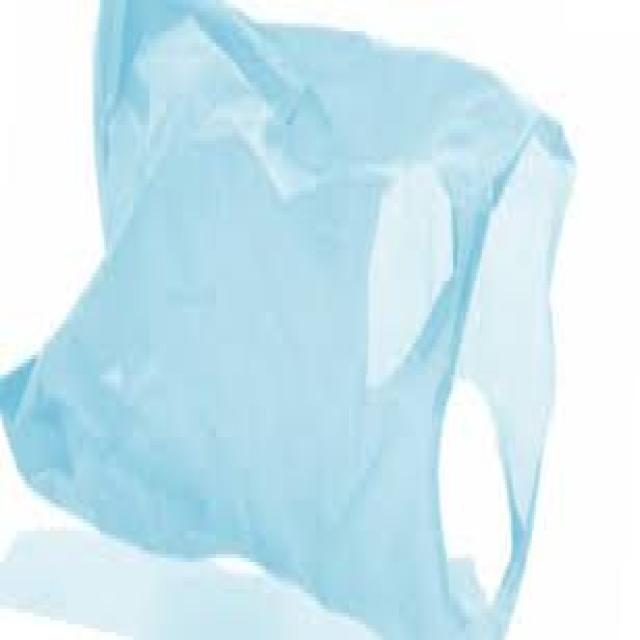plastic: (0, 0, 576, 636)
